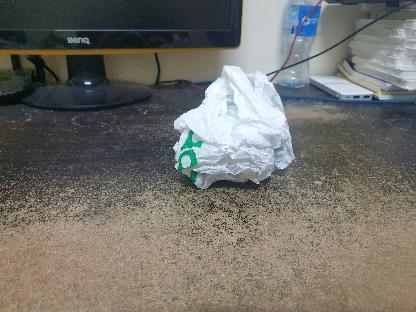Paper: (165, 66, 297, 194)
Plastic Bottle: (276, 0, 322, 86)
